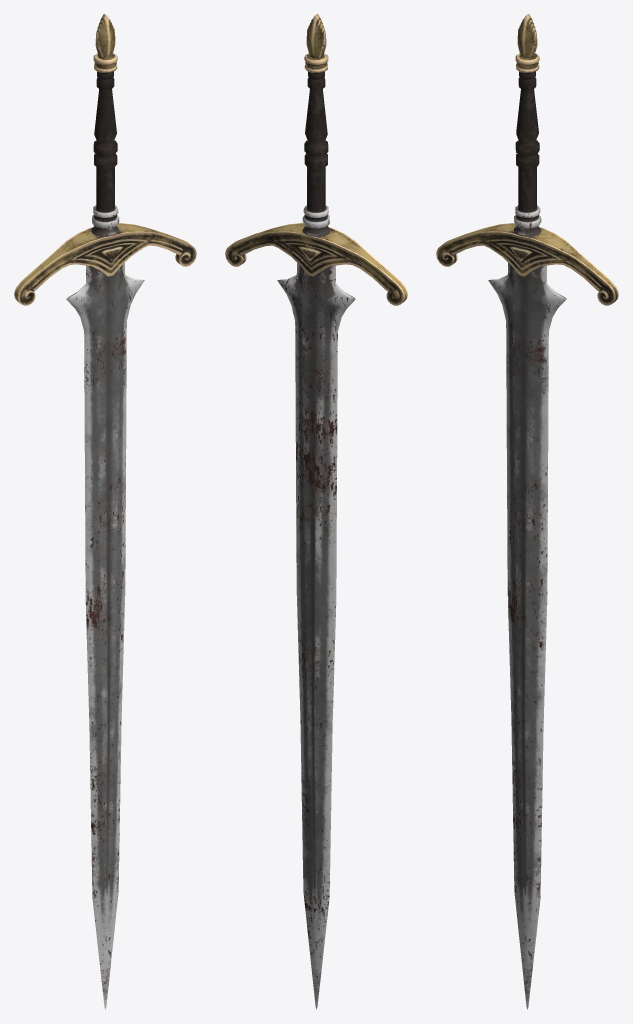
The picture shows the model from 3 angles, left to right: view 1: azimuth 30°, elevation 25°; view 2: azimuth 150°, elevation 25°; view 3: azimuth 330°, elevation 25°; orthographic projection.
Visible parts, largest first — view 1: SM_LothricSword01_LOD0; view 2: SM_LothricSword01_LOD0; view 3: SM_LothricSword01_LOD0.
Boxes of the visible parts, x1=… form: SM_LothricSword01_LOD0: x1=14, y1=14, x2=196, y2=1009; SM_LothricSword01_LOD0: x1=225, y1=14, x2=407, y2=1009; SM_LothricSword01_LOD0: x1=436, y1=14, x2=618, y2=1009.
Size of the model in its own units: 0.2395 by 1.28 by 0.0364.
1 material, 1 textured.
